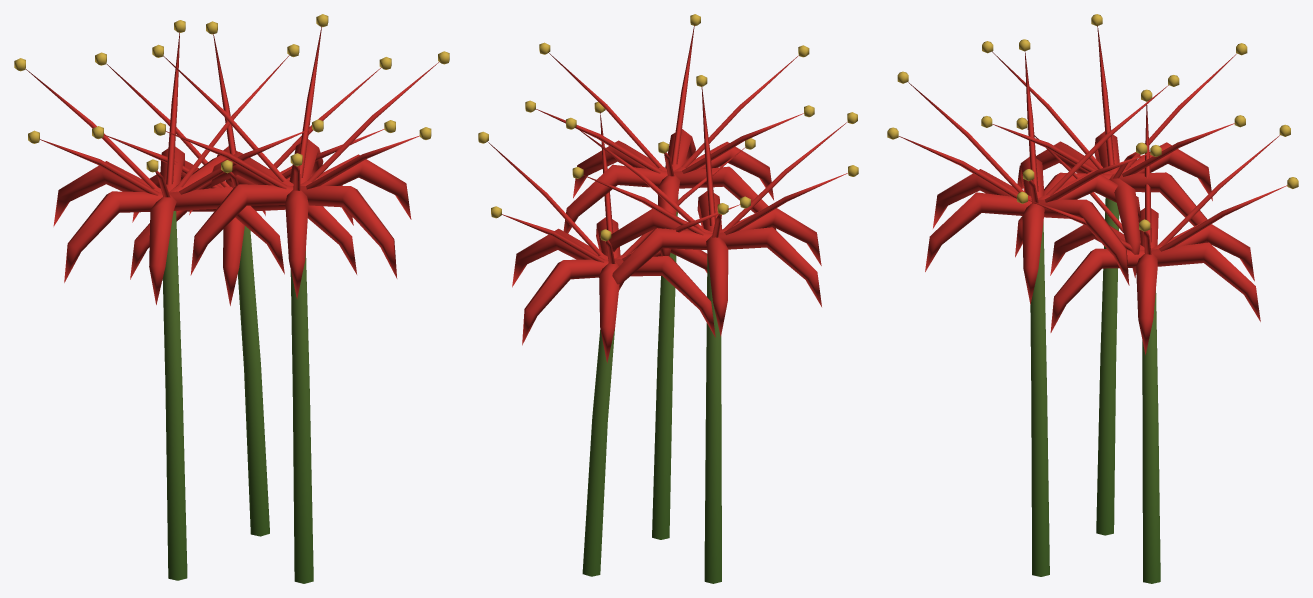
The model's file is Shrine_Higanbana.fbx.
3 views of the same model, side by side, from view 1: azimuth 30°, elevation 25°; view 2: azimuth 150°, elevation 25°; view 3: azimuth 270°, elevation 25° (orthographic). The views are drawn at different scales.
Visible parts, largest first — view 1: Shrine_Higanbana; view 2: Shrine_Higanbana; view 3: Shrine_Higanbana.
Part boxes in pixels (x1=…): Shrine_Higanbana: x1=14, y1=14, x2=449, y2=583; Shrine_Higanbana: x1=478, y1=14, x2=858, y2=583; Shrine_Higanbana: x1=887, y1=14, x2=1298, y2=583.
Bounding box in the file's own units: 3.65 × 4.51 × 3.61.
